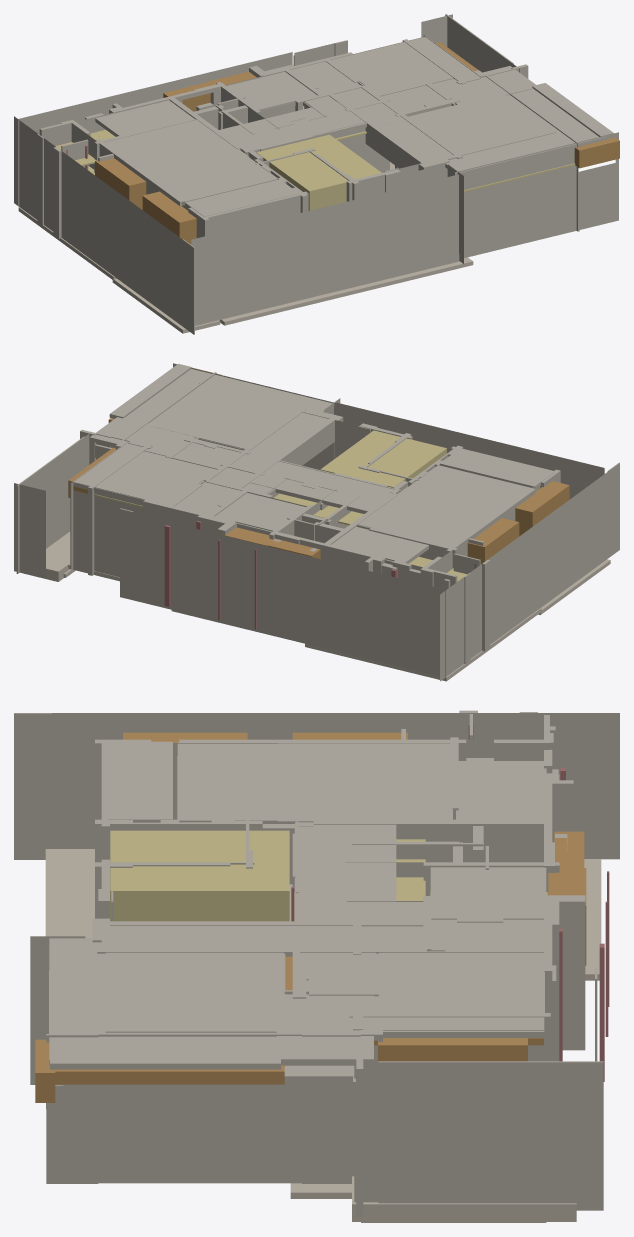
Rendered from Soulace_L0_clean.dae.
3 renders of one model, top to bottom at view 1: azimuth 30°, elevation 25°; view 2: azimuth 150°, elevation 25°; view 3: azimuth 270°, elevation 25°, orthographic. The views are drawn at different scales.
Parts seen in each view (by area): view 1: walls, dropped_ceiling_02_02, dropped_ceiling_00_01, dropped_ceiling_16, dropped_ceiling_01_02, dropped_ceiling_03_01, dropped_ceiling_05_01, dropped_ceiling_04_01, dropped_ceiling_09_01, dropped_ceiling_06_02, dropped_ceiling_07_01, dropped_ceiling_08_01 (+14 smaller); view 2: walls, dropped_ceiling_02_02, dropped_ceiling_00_01, dropped_ceiling_16, dropped_ceiling_03_01, dropped_ceiling_05_01, dropped_ceiling_01_02, dropped_ceiling_04_01, dropped_ceiling_09_01, dropped_ceiling_08_01, dropped_ceiling_06_02, dropped_ceiling_07_01 (+16 smaller); view 3: walls, dropped_ceiling_16, dropped_ceiling_02_02, dropped_ceiling_00_01, dropped_ceiling_03_01, dropped_ceiling_05_01, dropped_ceiling_01_02, dropped_ceiling_04_01, dropped_ceiling_06_02, dropped_ceiling_09_01, dropped_ceiling_08_01, dropped_ceiling_07_01 (+21 smaller).
Boxes of the visible parts, box(x1,y1,x2,y2) form: walls: box(14, 14, 618, 334); dropped_ceiling_02_02: box(408, 93, 556, 155); dropped_ceiling_00_01: box(104, 119, 249, 179); dropped_ceiling_16: box(256, 134, 381, 210); dropped_ceiling_01_02: box(445, 89, 606, 175); dropped_ceiling_03_01: box(331, 42, 453, 96); dropped_ceiling_05_01: box(219, 101, 366, 155); dropped_ceiling_04_01: box(155, 157, 277, 205); dropped_ceiling_09_01: box(226, 72, 317, 113); dropped_ceiling_06_02: box(433, 66, 535, 104); dropped_ceiling_07_01: box(95, 100, 194, 136); dropped_ceiling_08_01: box(185, 179, 298, 216); walls: box(14, 363, 619, 681); dropped_ceiling_02_02: box(150, 387, 297, 449); dropped_ceiling_00_01: box(357, 486, 501, 546); dropped_ceiling_16: box(320, 430, 446, 487); dropped_ceiling_03_01: box(94, 451, 216, 505); dropped_ceiling_05_01: box(250, 460, 393, 513); dropped_ceiling_01_02: box(125, 369, 334, 450); dropped_ceiling_04_01: box(408, 465, 531, 509); dropped_ceiling_09_01: box(215, 492, 305, 534); dropped_ceiling_08_01: box(440, 449, 553, 488); dropped_ceiling_06_02: box(89, 417, 195, 456); dropped_ceiling_07_01: box(331, 526, 428, 564); walls: box(14, 710, 619, 1217); dropped_ceiling_16: box(110, 830, 289, 921); dropped_ceiling_02_02: box(105, 952, 283, 1032); dropped_ceiling_00_01: box(277, 743, 452, 823); dropped_ceiling_03_01: box(378, 951, 544, 1012); dropped_ceiling_05_01: box(294, 824, 396, 921); dropped_ceiling_01_02: box(49, 938, 285, 1065); dropped_ceiling_04_01: box(177, 742, 277, 823); dropped_ceiling_06_02: box(276, 994, 373, 1065); dropped_ceiling_09_01: box(430, 867, 546, 914); dropped_ceiling_08_01: box(108, 741, 172, 822); dropped_ceiling_07_01: box(456, 761, 546, 819).
Bounding box in the file's own units: 18.42 × 13.09 × 3.96.
